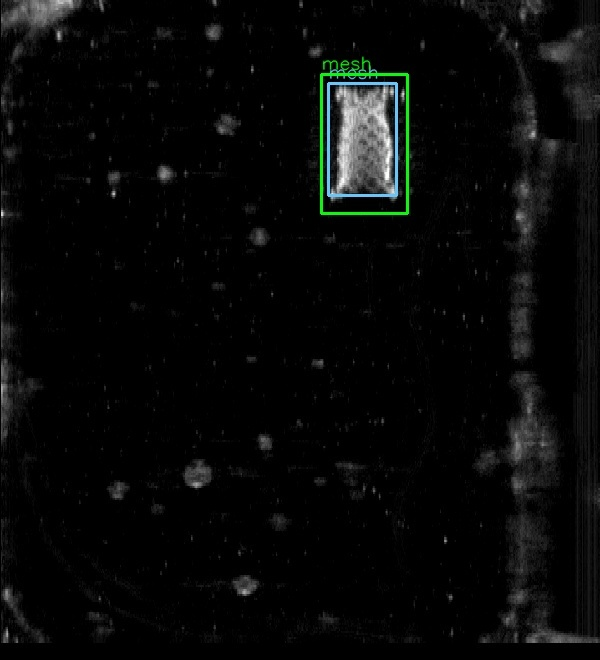mesh: (328, 83, 396, 195)
